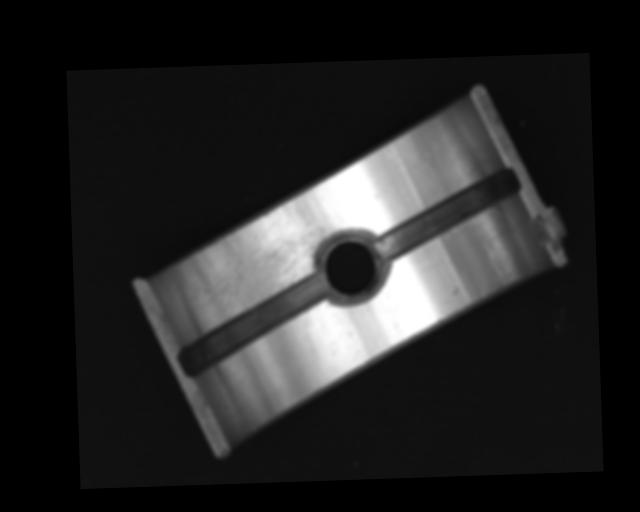bruise: (450, 286, 460, 295)
gap: (179, 276, 326, 376), (373, 168, 520, 259)
hole: (317, 228, 385, 305)
nick: (484, 241, 507, 284)
scratch: (194, 194, 340, 324)
